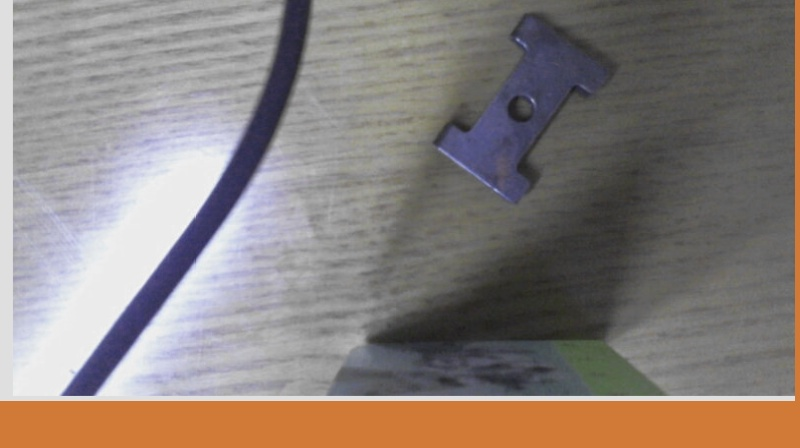O002: (428, 13, 618, 206)
